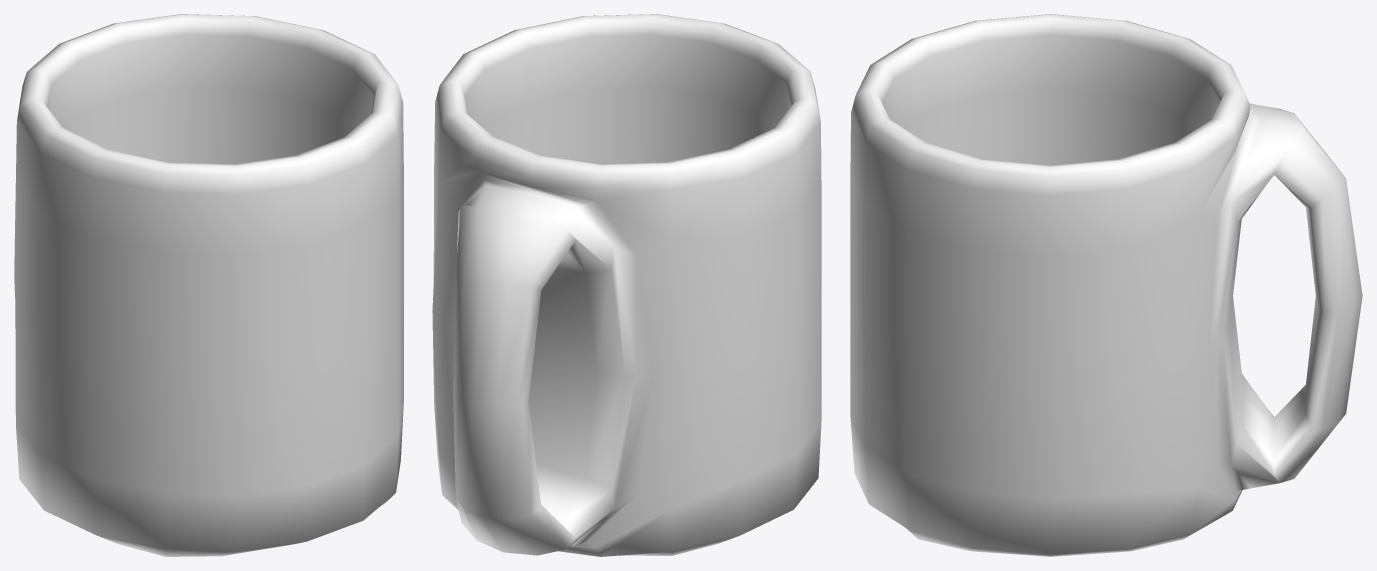
File: GAMEJAMHERO - Prop(Mug).fbx
The picture shows the model from 3 angles, left to right: view 1: azimuth 30°, elevation 25°; view 2: azimuth 150°, elevation 25°; view 3: azimuth 270°, elevation 25°; orthographic projection.
Visible parts, largest first — view 1: Plane.007; view 2: Plane.007; view 3: Plane.007.
Part boxes in pixels (bbox=[...]): Plane.007: bbox=[14, 14, 403, 556]; Plane.007: bbox=[432, 14, 821, 556]; Plane.007: bbox=[850, 14, 1362, 556].
Size of the model in its own units: 17.83 by 19.95 by 23.16.
1 material, 1 textured.
